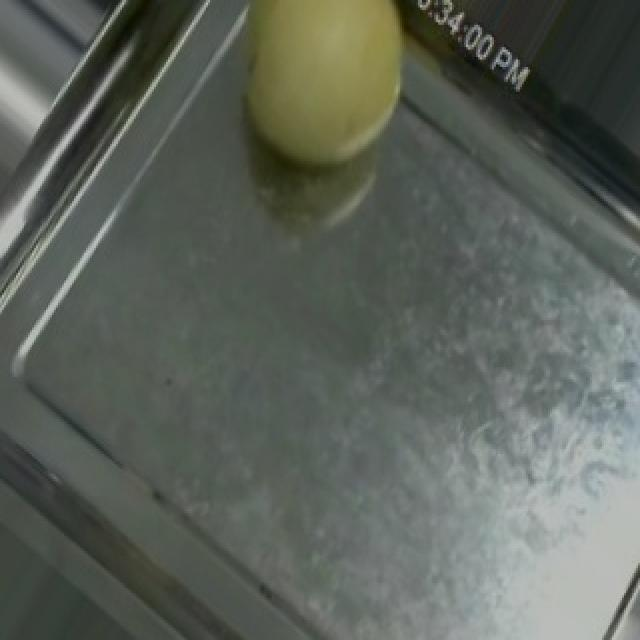Fruit: (200, 0, 452, 206)
